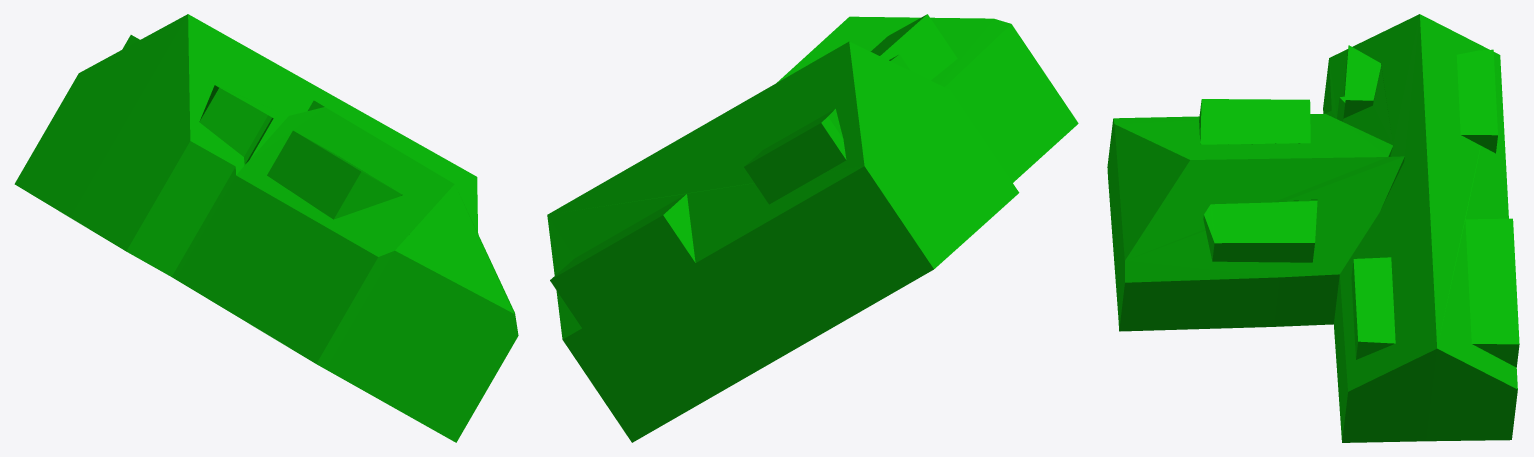
The picture shows the model from 3 angles, left to right: view 1: azimuth 30°, elevation 25°; view 2: azimuth 150°, elevation 25°; view 3: azimuth 270°, elevation 25°; orthographic projection. The views are drawn at different scales.
Parts seen in each view (by area): view 1: mesh; view 2: mesh; view 3: mesh.
Part boxes in pixels (box(x1,y1,x2,y2)): mesh: box(14, 14, 518, 442); mesh: box(547, 14, 1078, 442); mesh: box(1107, 14, 1519, 442).
Bounding box in the file's own units: 20.08 × 18.46 × 19.41.
